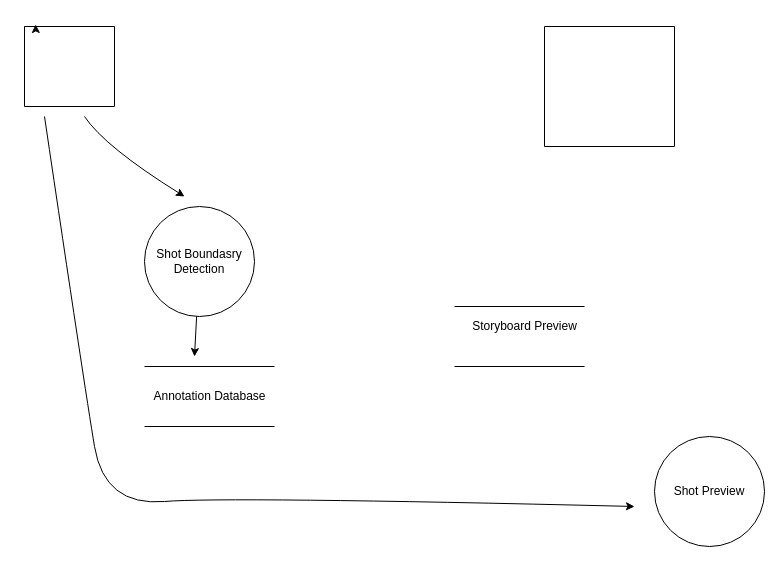
Image size: 782x564. Some labels were removed from this diagram. The shapes that lost their labels are listed below. From the top down, each one's centre as x and y in pixels, then its label:
At [69,66]: "Video Database".
At [609,86]: "User".
